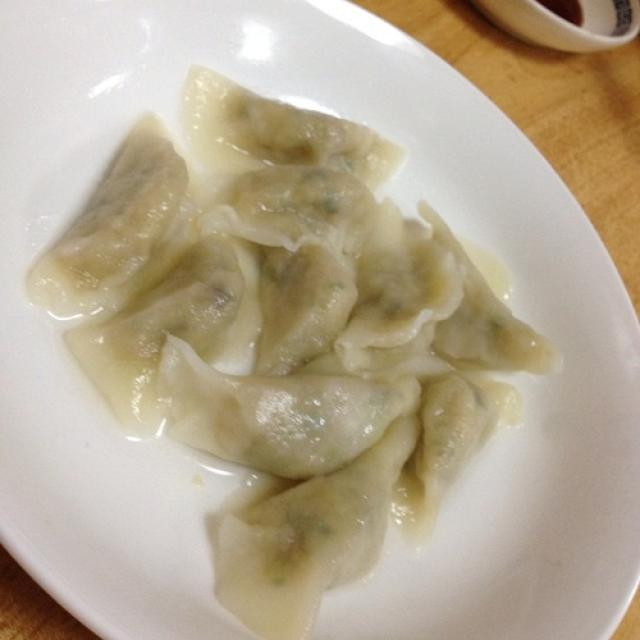带馅早点: (23, 40, 581, 623)
